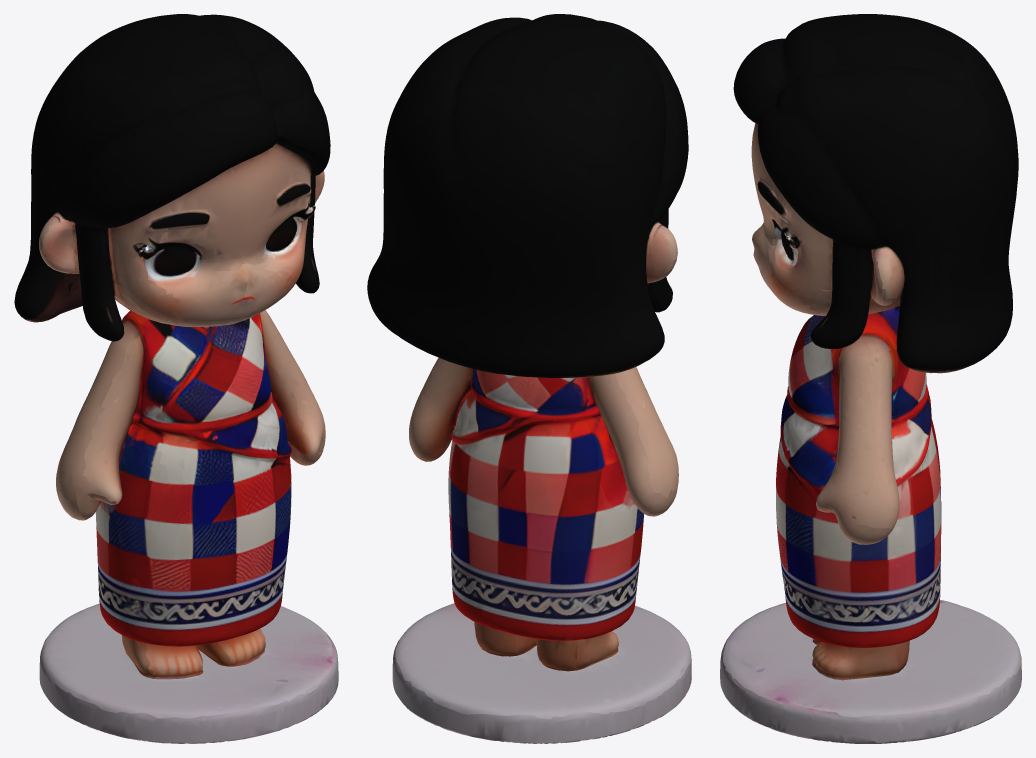
3 renders of one model, left to right at view 1: azimuth 30°, elevation 25°; view 2: azimuth 150°, elevation 25°; view 3: azimuth 270°, elevation 25°, orthographic.
Parts seen in each view (by area): view 1: textured_mesh; view 2: textured_mesh; view 3: textured_mesh.
Boxes of the visible parts, box(x1,y1,x2,y2) form: textured_mesh: box(14, 14, 338, 743); textured_mesh: box(367, 14, 691, 743); textured_mesh: box(720, 14, 1021, 743).
Bounding box in the file's own units: 0.9243 × 1.99 × 0.8372.
Materials: 1 (1 with a texture image).
